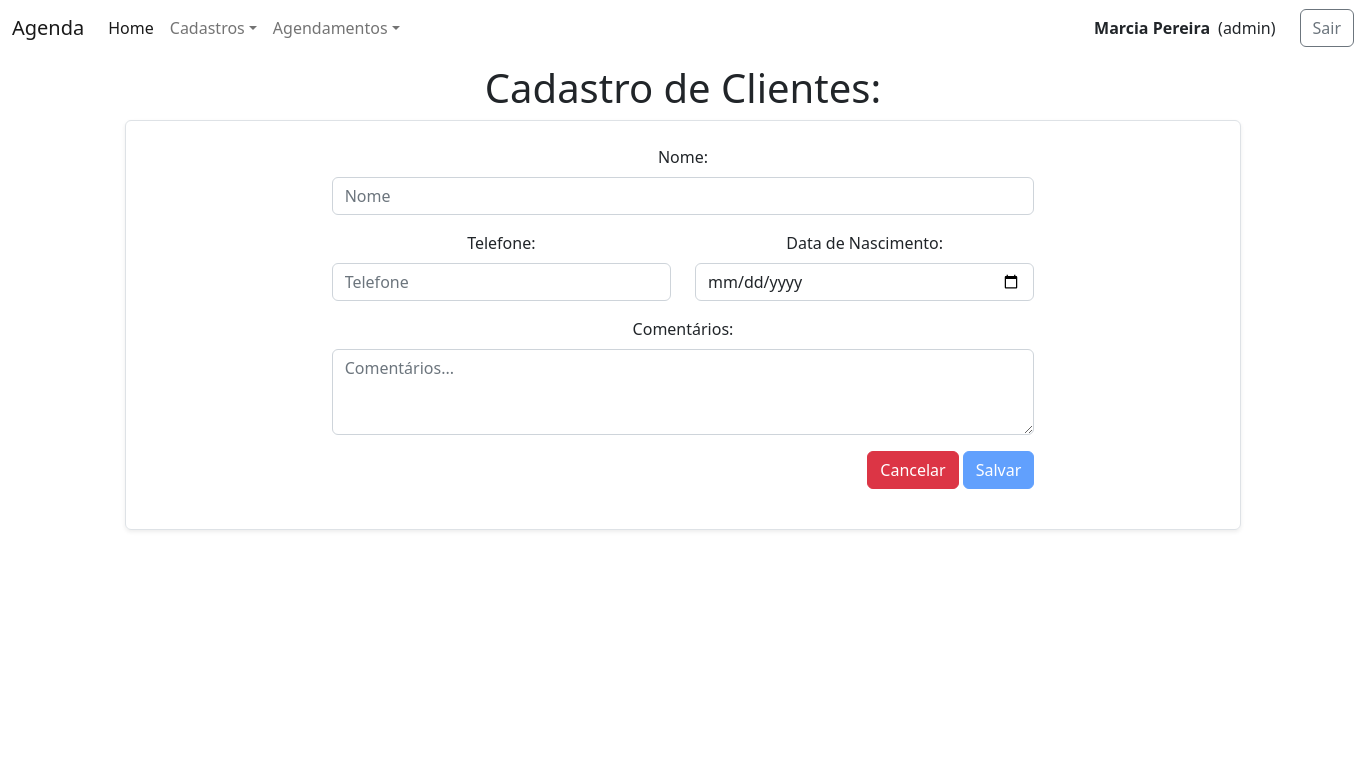
Test: Client Form Page › Should display error messages when trying to save a client
Type "Nome do Cliente" into the field with id "name" at (684, 196), box x1=332 y1=177 x2=1035 y2=215
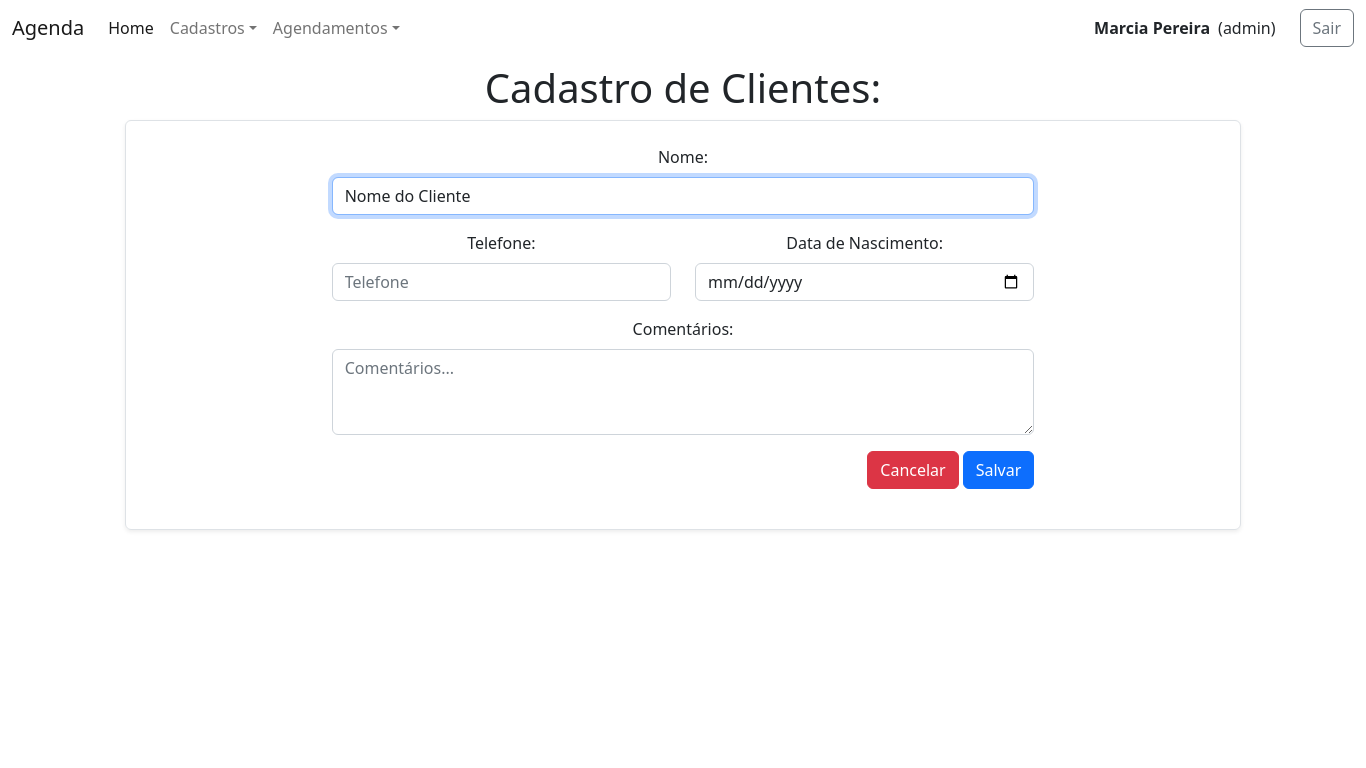
Click the button "Salvar" at (999, 470), box x1=963 y1=451 x2=1035 y2=489
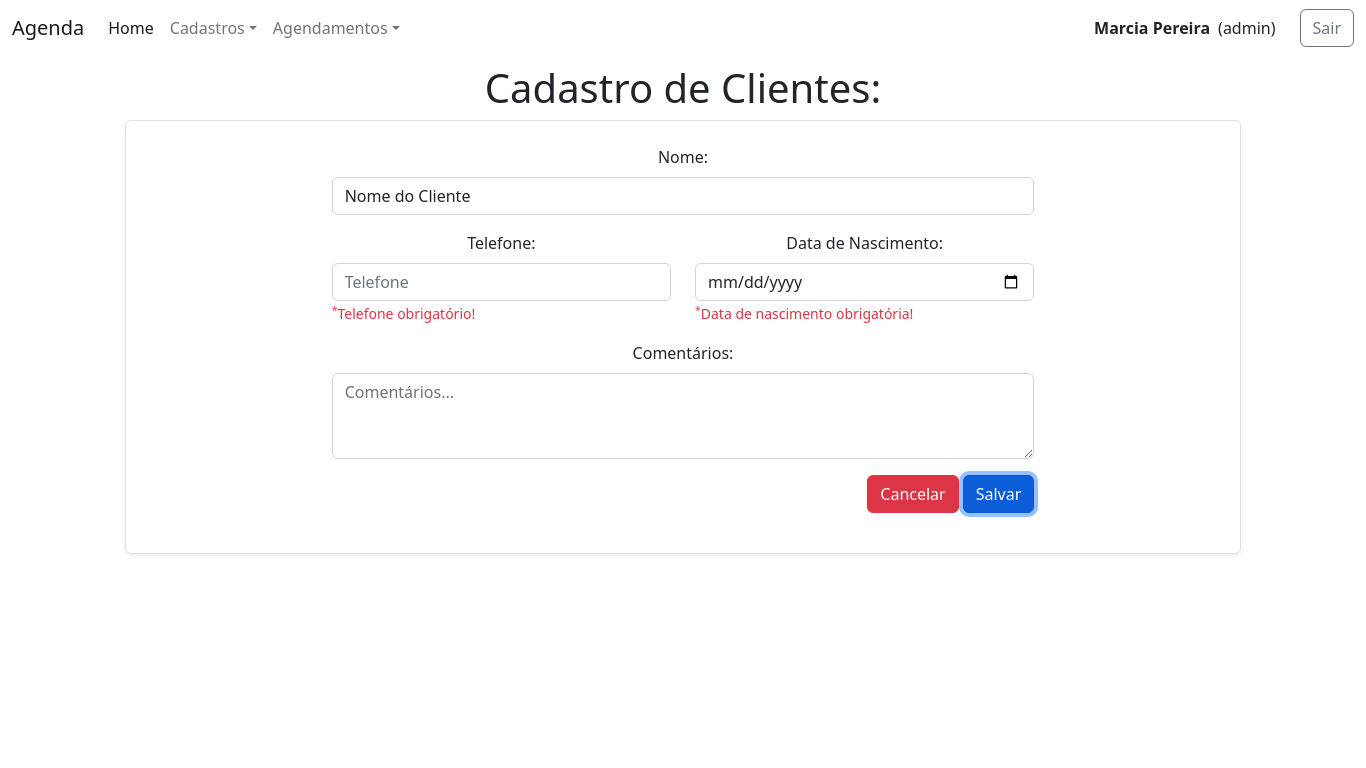
Now the text "Telefone obrigatório!" is shown, box x1=337 y1=304 x2=475 y2=323
Now the text "Data de nascimento obrigatória!" is shown, box x1=701 y1=304 x2=914 y2=323
Clear the field with id "name" at (684, 196), box x1=332 y1=177 x2=1035 y2=215
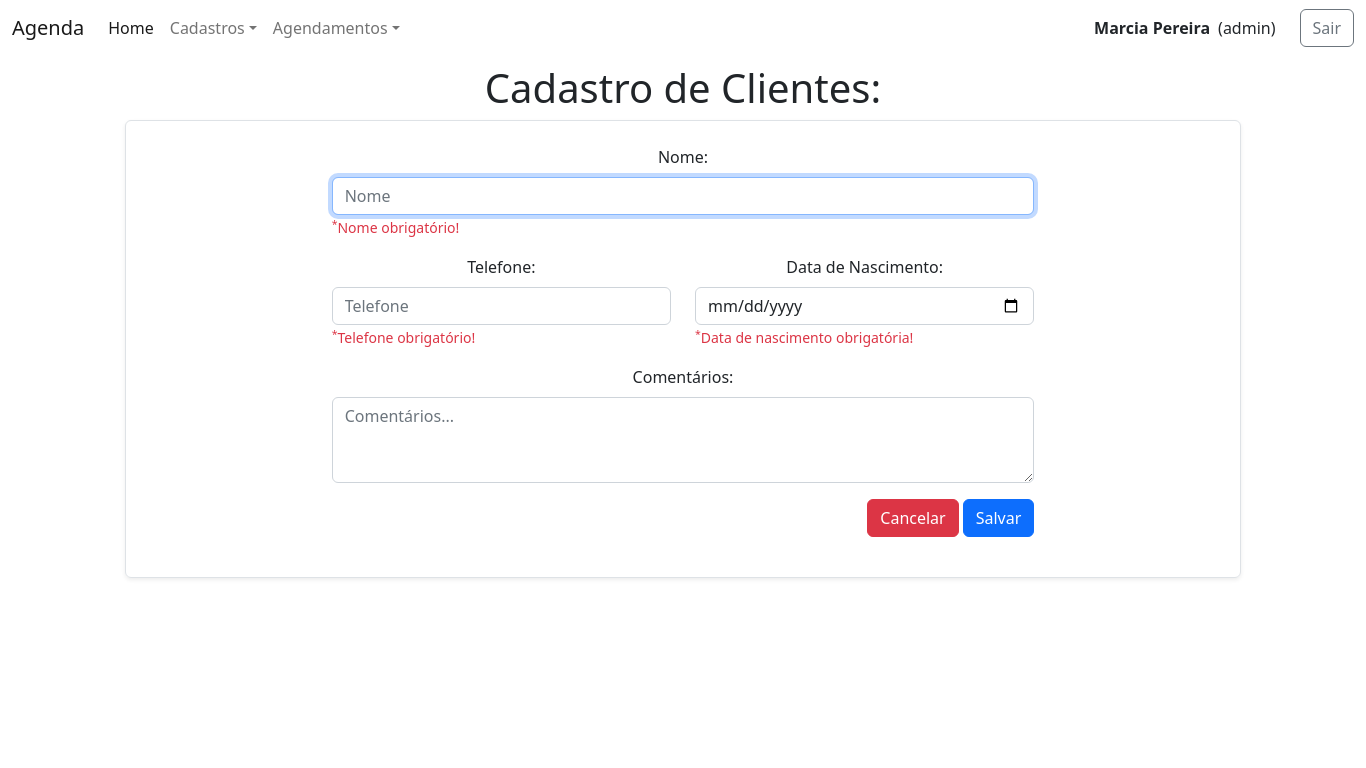
Now the text "Nome obrigatório!" is shown, box x1=337 y1=218 x2=459 y2=237
